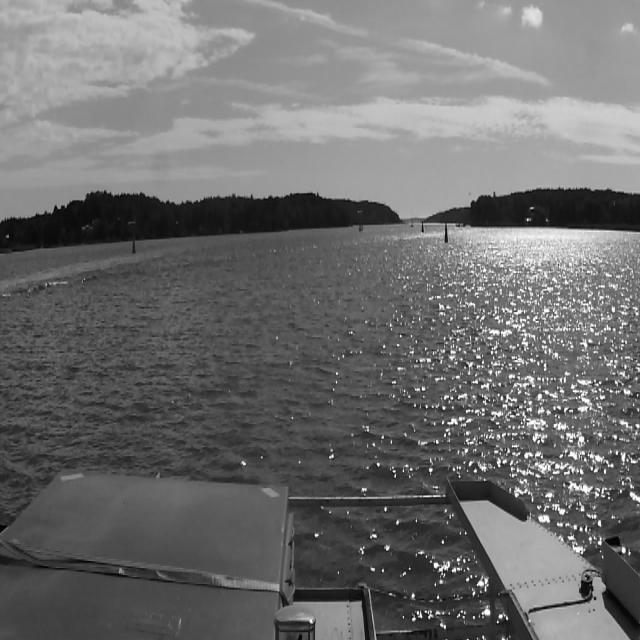buoy: (132, 238, 136, 254), (445, 222, 448, 243), (420, 218, 424, 232)
ship: (359, 212, 363, 231)
